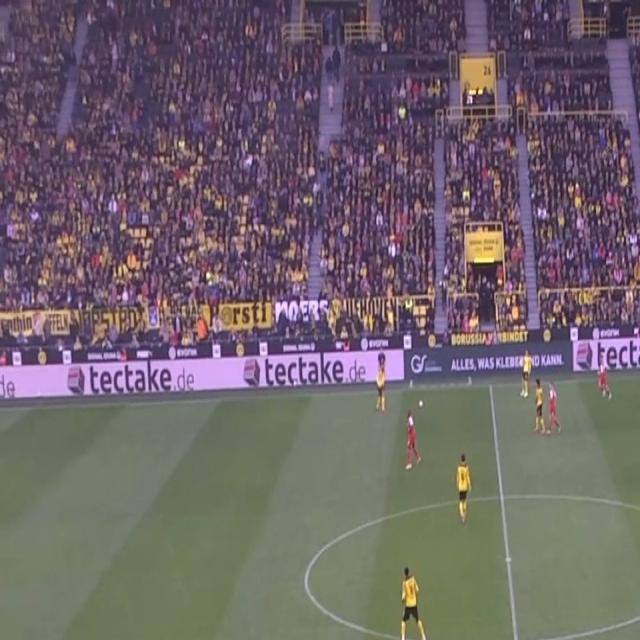ball: (417, 398, 425, 409)
